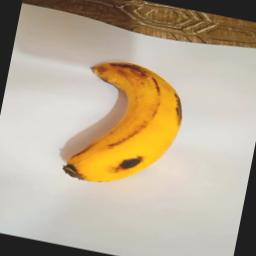Banana Unripe: (56, 49, 197, 202)
